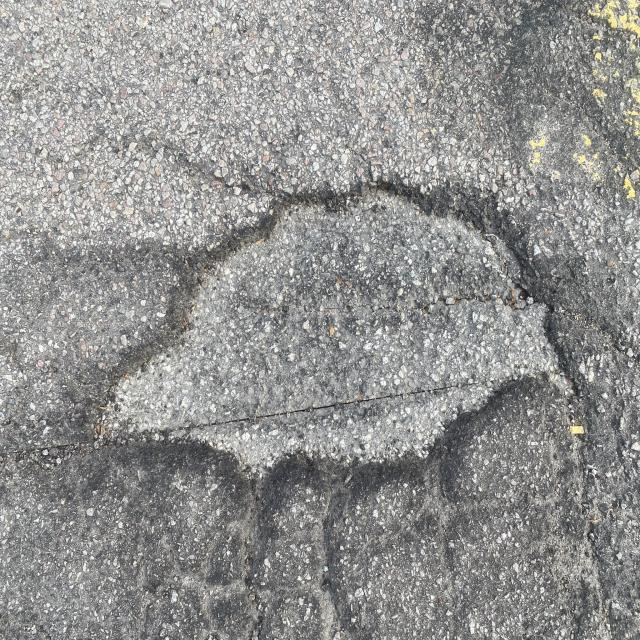pothole: (75, 146, 590, 513)
